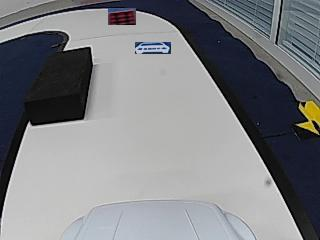block: (27, 46, 91, 125)
